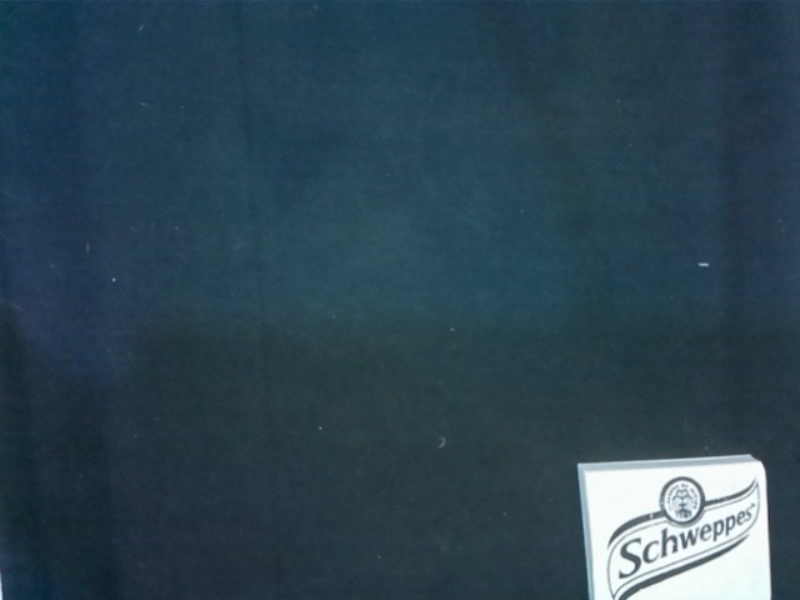schweppes: (573, 460, 769, 600)
